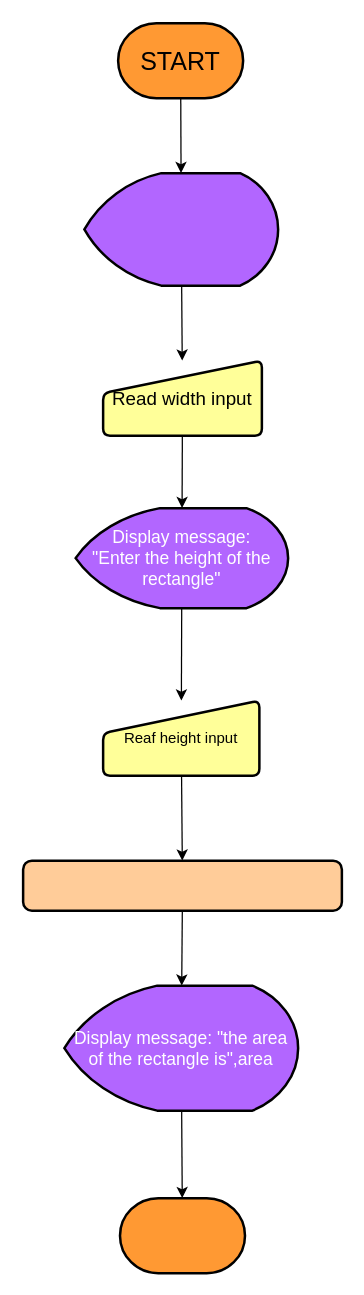
The diagram is 364 pixels wide and 1295 high, and some of its shapes have lost their labels. The box of each missing label's shape, as (x1, y1, x2, y2) in pixels:
Calculate area: area = width * height: (21, 859, 342, 911)
Display message: "Enter the width of the rectangle": (82, 171, 279, 286)
END: (118, 1196, 246, 1274)
